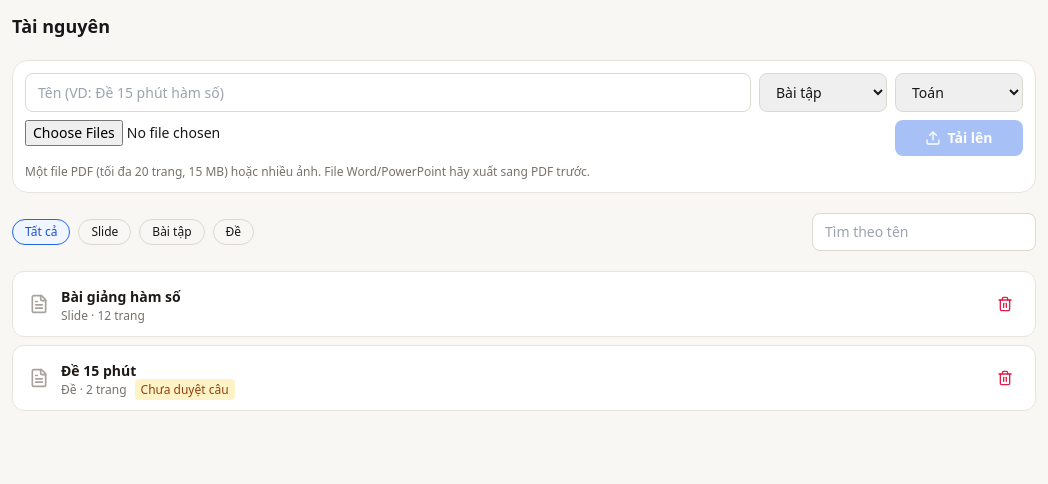
Test: ResourceList › asks before deleting and shows the in-use message
Click the button with test id "resource-delete" in the row of "Bài giảng hàm số": click(1005, 304) [991,290,1019,318]
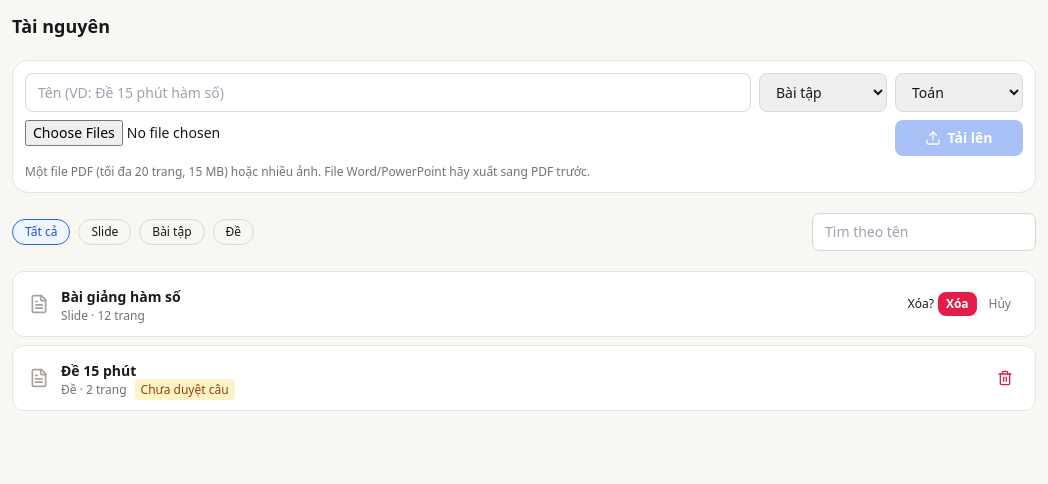
Click the button with test id "resource-confirm-delete": click(957, 304) [938,292,977,316]
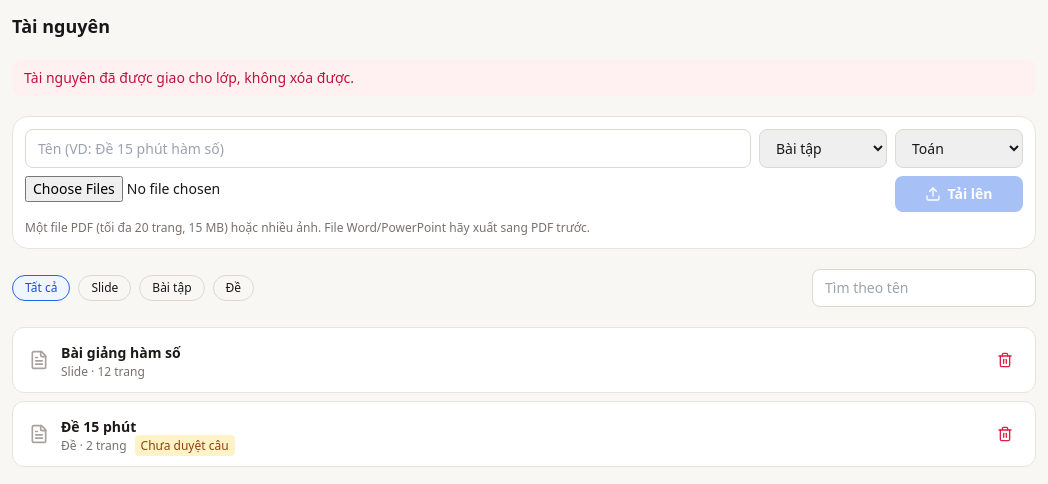
Check: the text "Tài nguyên đã được giao cho lớp, không xóa được." is shown, box [12,60,1036,96]
